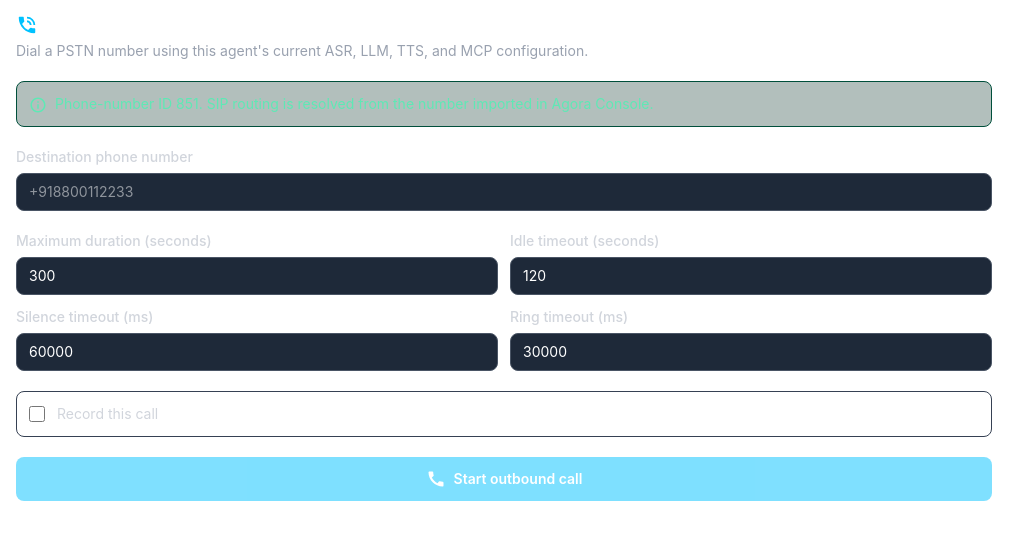
Test: TelephonySettings › shows the configured Agora number ID and validates E.164 input
Expected: the button "Start outbound call" is disabled, [16,457,992,501]
Step 1. Type "8800112233" into the field labelled "Destination phone number" → (504, 192), box [16,173,992,211]
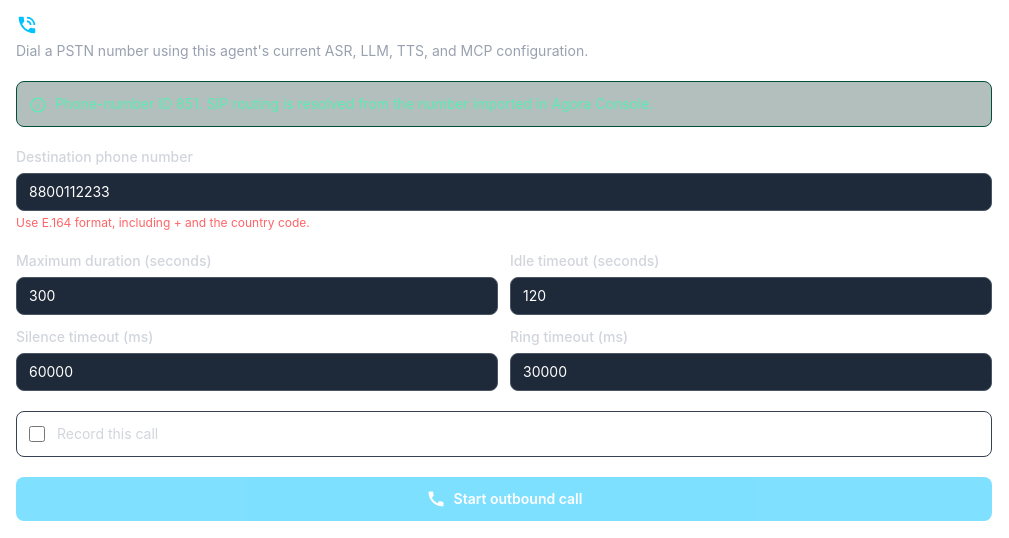
Expected: the button "Start outbound call" is disabled, [16,477,992,521]
Expected: the text "Use E.164 format, including + and the country code." is shown, [16,215,310,230]
